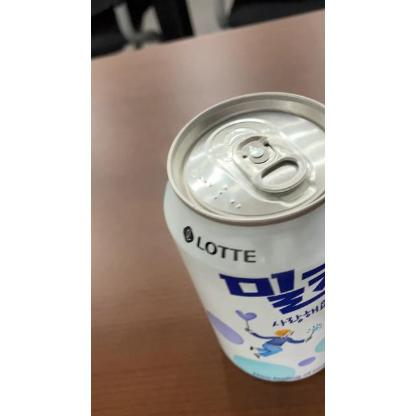Can: (161, 84, 325, 386)
